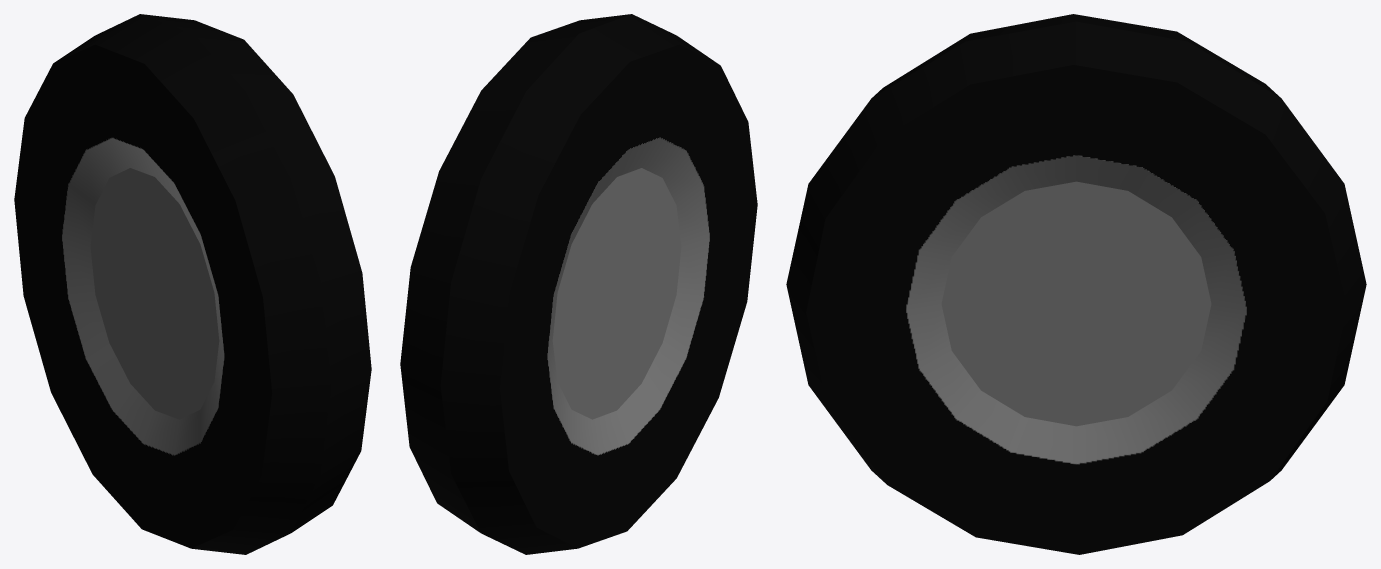
Rendered from Tire.fbx.
The picture shows the model from 3 angles, left to right: view 1: azimuth 30°, elevation 25°; view 2: azimuth 150°, elevation 25°; view 3: azimuth 270°, elevation 25°; orthographic projection. The views are drawn at different scales.
Parts seen in each view (by area): view 1: TIRES; view 2: TIRES; view 3: TIRES.
Part boxes in pixels (x1,y1,x2,y2): TIRES: [14, 14, 371, 554]; TIRES: [400, 14, 757, 554]; TIRES: [786, 14, 1366, 554].
Size of the model in its own units: 0.1009 by 0.4864 by 0.4864.
Materials: 1 (1 with a texture image).
